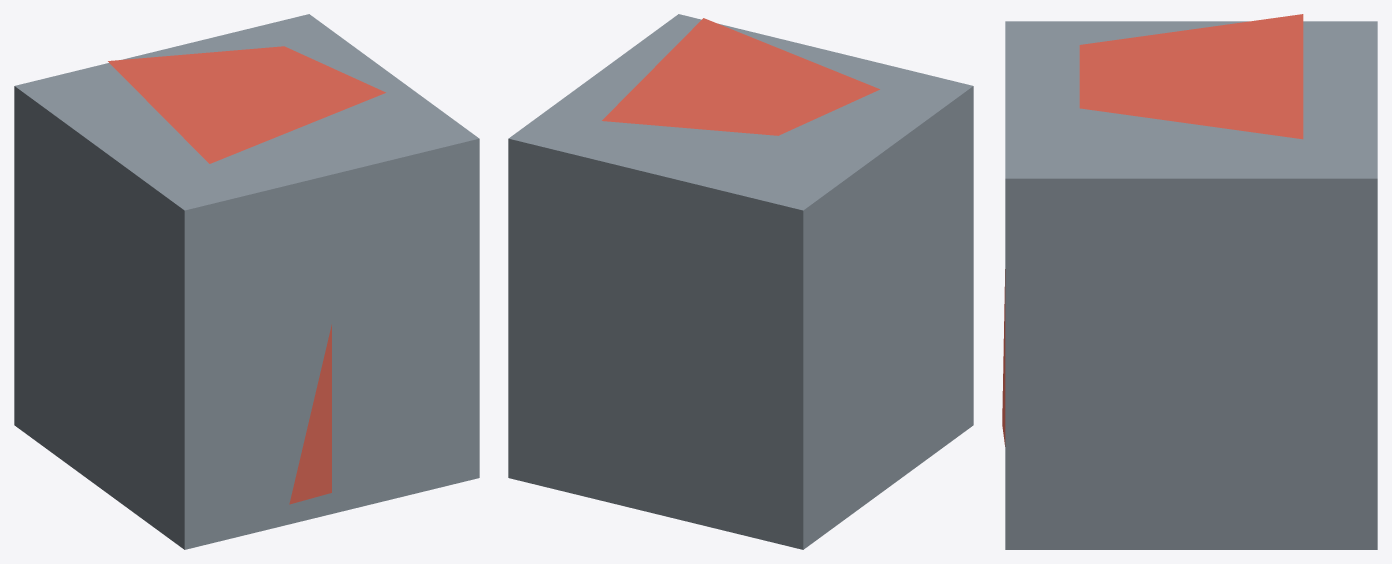
File: SU_TeslaTower_LOD1.glb
The picture shows the model from 3 angles, left to right: view 1: azimuth 30°, elevation 25°; view 2: azimuth 150°, elevation 25°; view 3: azimuth 270°, elevation 25°; orthographic projection. The views are drawn at different scales.
Visible parts, largest first — view 1: EntranceGate; view 2: EntranceGate; view 3: EntranceGate.
Boxes of the visible parts, box(x1,y1,x2,y2) form: EntranceGate: box(14, 14, 479, 549); EntranceGate: box(508, 14, 973, 549); EntranceGate: box(1002, 14, 1377, 549).
Size of the model in its own units: 400 by 486 by 403.
